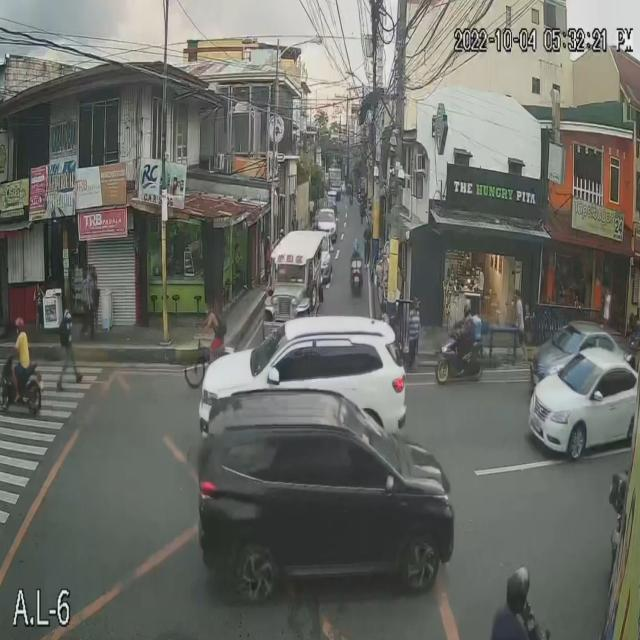full: (505, 566, 531, 618)
half: (14, 316, 24, 334)
